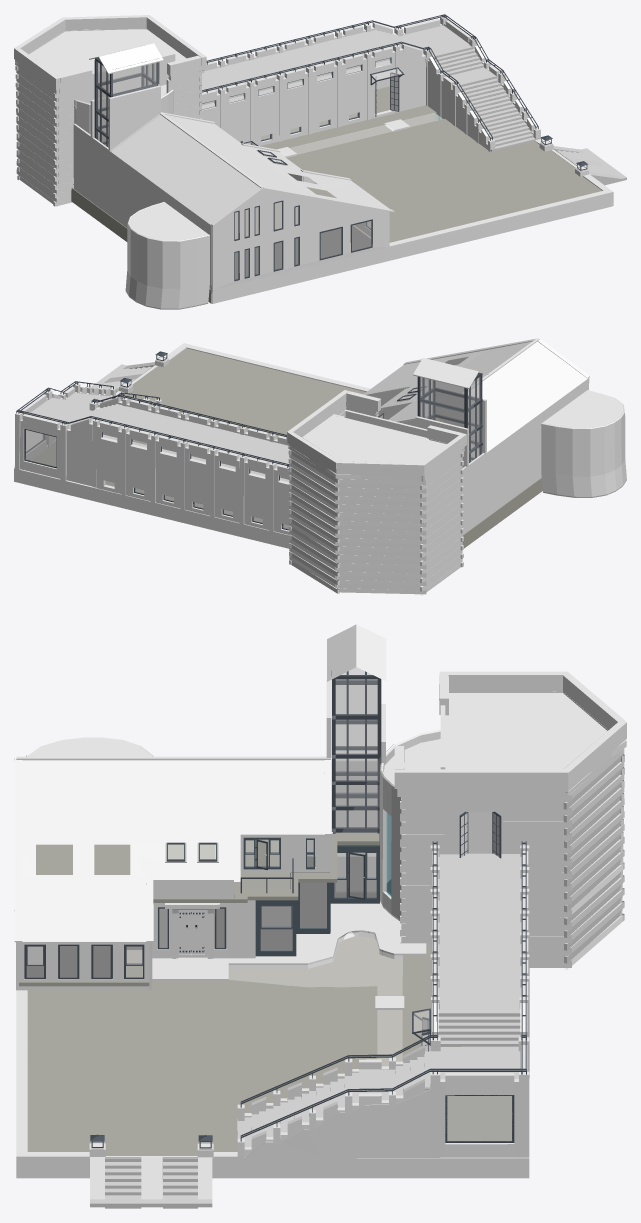
File: childhood-house-new-grouped.glb
3 renders of one model, top to bottom at view 1: azimuth 30°, elevation 25°; view 2: azimuth 150°, elevation 25°; view 3: azimuth 270°, elevation 25°, orthographic. The views are drawn at different scales.
Visible parts, largest first — view 1: Plane, leftwall, left wall top front.006, Plane.020, kitchen, cut long wall top window, midwall1.022, Plane.003, ROOF TOP FLOOR, Plane.019, Plane.023, Plane.039 (+33 smaller); view 2: Plane.022, Plane, midwall1.026, left wall top front.006, kitchen, cut long wall top window, midwall1.024, ROOF TOP FLOOR, midwall1.022, midwall1.027, Plane.003, long stairs block (+26 smaller); view 3: Plane, left wall top front.006, midwall1.015, Plane.003, ROOF TOP FLOOR, midwall1.024, midwall1.027, Plane.043, long stairs block, midwall1.028, water, roomfloor (+42 smaller).
Boxes of the visible parts, x1=… form: Plane: x1=71, y1=86, x2=601, y2=303; leftwall: x1=211, y1=189, x2=612, y2=303; left wall top front.006: x1=109, y1=115, x2=389, y2=225; Plane.020: x1=202, y1=54, x2=366, y2=146; kitchen: x1=125, y1=202, x2=209, y2=309; cut long wall top window: x1=73, y1=123, x2=211, y2=289; midwall1.022: x1=16, y1=67, x2=58, y2=206; Plane.003: x1=202, y1=29, x2=403, y2=93; ROOF TOP FLOOR: x1=19, y1=29, x2=184, y2=91; Plane.019: x1=452, y1=78, x2=539, y2=151; Plane.023: x1=423, y1=49, x2=495, y2=152; Plane.039: x1=90, y1=85, x2=160, y2=150; Plane.022: x1=97, y1=421, x2=289, y2=534; Plane: x1=31, y1=348, x2=542, y2=548; midwall1.026: x1=335, y1=479, x2=426, y2=594; left wall top front.006: x1=365, y1=341, x2=588, y2=453; kitchen: x1=541, y1=390, x2=626, y2=497; cut long wall top window: x1=462, y1=380, x2=587, y2=534; midwall1.024: x1=289, y1=450, x2=339, y2=593; ROOF TOP FLOOR: x1=302, y1=415, x2=461, y2=478; midwall1.022: x1=420, y1=454, x2=462, y2=595; midwall1.027: x1=14, y1=365, x2=289, y2=548; Plane.003: x1=91, y1=404, x2=289, y2=468; long stairs block: x1=420, y1=376, x2=481, y2=467; Plane: x1=27, y1=936, x2=511, y2=1155; left wall top front.006: x1=22, y1=760, x2=324, y2=941; midwall1.015: x1=400, y1=795, x2=571, y2=967; Plane.003: x1=438, y1=853, x2=521, y2=1013; ROOF TOP FLOOR: x1=445, y1=693, x2=626, y2=772; midwall1.024: x1=563, y1=748, x2=624, y2=969; midwall1.027: x1=16, y1=1156, x2=529, y2=1178; Plane.043: x1=237, y1=1071, x2=529, y2=1157; long stairs block: x1=332, y1=667, x2=380, y2=891; midwall1.028: x1=246, y1=1089, x2=430, y2=1157; water: x1=229, y1=924, x2=402, y2=1065; roomfloor: x1=24, y1=856, x2=391, y2=978.
Bounding box in the file's own units: 28.27 × 9.25 × 19.91.
37 materials, 2 textured.
